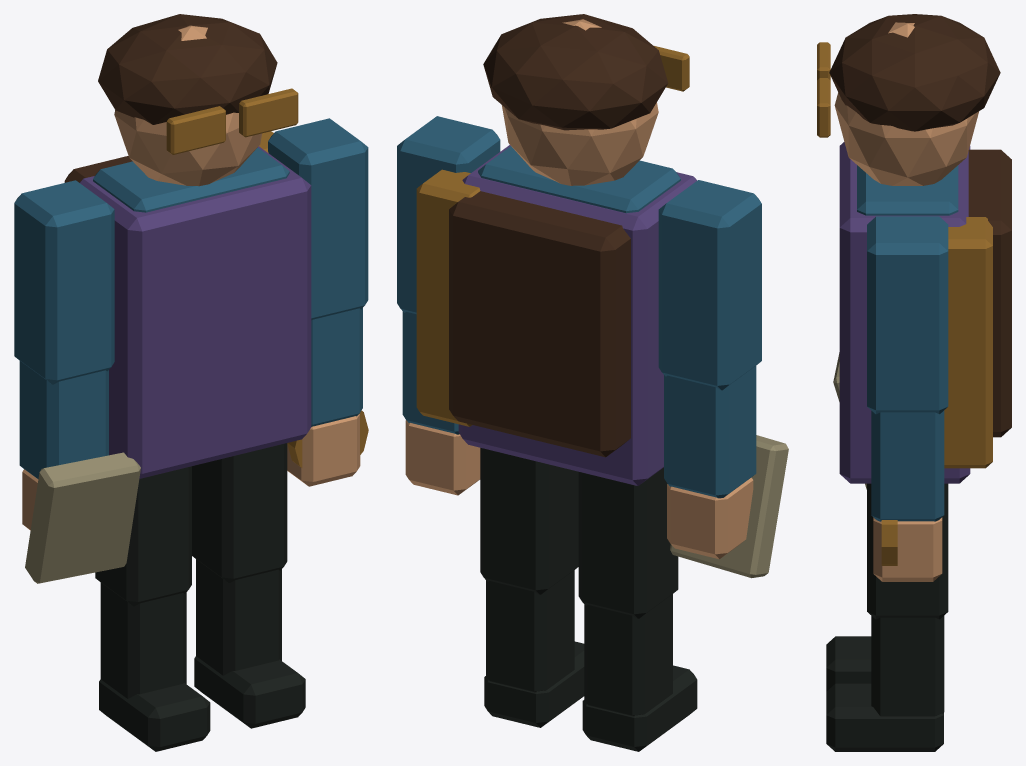
The model's file is AvenSunmossResearcher.glb.
3 views of the same model, side by side, from view 1: azimuth 30°, elevation 25°; view 2: azimuth 150°, elevation 25°; view 3: azimuth 270°, elevation 25° (orthographic). The views are drawn at different scales.
Parts seen in each view (by area): view 1: UpperTorso_Tunic, LeftUpperArm, Head_HairCap, RightUpperArm, LeftHand_Notebook, RightUpperLeg, LeftUpperLeg, LeftLowerLeg, LeftLowerArm, RightLowerLeg, Head, RightLowerArm (+9 smaller); view 2: UpperTorso_FieldPack, LeftUpperArm, Head_HairCap, UpperTorso_Tunic, RightUpperLeg, LeftUpperLeg, LeftLowerArm, RightLowerLeg, LeftLowerLeg, UpperTorso_InstrumentCase, Head, RightUpperArm (+8 smaller); view 3: RightUpperArm, Head_HairCap, UpperTorso_InstrumentCase, UpperTorso_Tunic, RightLowerArm, Head, RightLowerLeg, UpperTorso_FieldPack, RightFoot, RightUpperLeg, UpperTorso, RightHand (+4 smaller).
Part boxes in pixels (<box>): UpperTorso_Tunic: <box>79,146,311,478</box>; LeftUpperArm: <box>14,180,114,384</box>; Head_HairCap: <box>98,14,277,124</box>; RightUpperArm: <box>268,118,368,320</box>; LeftHand_Notebook: <box>25,452,140,583</box>; RightUpperLeg: <box>192,443,287,582</box>; LeftUpperLeg: <box>95,466,191,606</box>; LeftLowerLeg: <box>100,582,186,698</box>; LeftLowerArm: <box>19,361,108,478</box>; RightLowerLeg: <box>196,559,281,675</box>; Head: <box>114,25,261,186</box>; RightLowerArm: <box>311,308,362,426</box>; UpperTorso_FieldPack: <box>449,191,630,457</box>; LeftUpperArm: <box>658,180,761,390</box>; Head_HairCap: <box>483,14,668,130</box>; UpperTorso_Tunic: <box>458,145,696,485</box>; RightUpperLeg: <box>480,448,578,594</box>; LeftUpperLeg: <box>578,467,678,618</box>; LeftLowerArm: <box>664,366,756,498</box>; RightLowerLeg: <box>486,570,574,692</box>; LeftLowerLeg: <box>584,594,672,715</box>; UpperTorso_InstrumentCase: <box>416,169,480,426</box>; Head: <box>502,19,658,185</box>; RightUpperArm: <box>397,116,500,314</box>; RightUpperArm: <box>867,216,948,414</box>; Head_HairCap: <box>829,14,1000,131</box>; UpperTorso_InstrumentCase: <box>944,217,992,468</box>; UpperTorso_Tunic: <box>839,142,970,483</box>; RightLowerArm: <box>871,410,944,521</box>; Head: <box>834,22,979,185</box>; RightLowerLeg: <box>871,616,944,716</box>; UpperTorso_FieldPack: <box>968,149,1011,437</box>; RightFoot: <box>826,683,943,751</box>; RightUpperLeg: <box>867,483,948,619</box>; UpperTorso: <box>857,165,958,215</box>; RightHand: <box>873,517,942,581</box>.
Bounding box in the file's own units: 4.39 × 8.48 × 2.16.
1 material, 1 textured.
